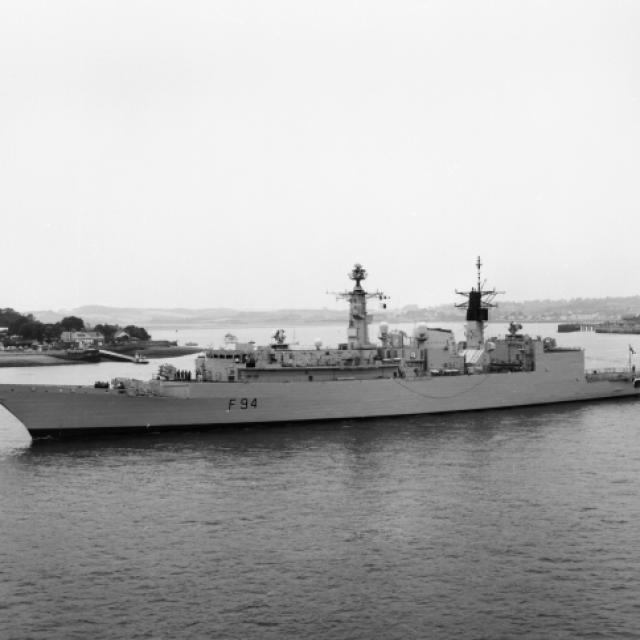Fragata: (1, 236, 640, 452)
